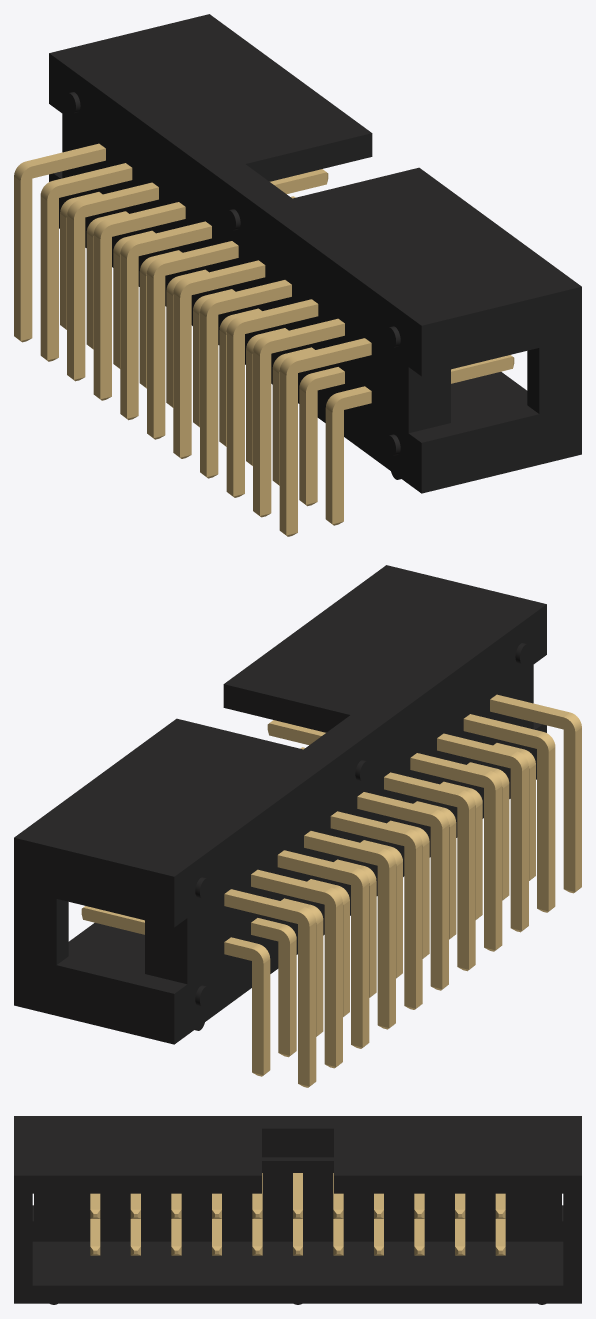
The model's file is kc-idc-header_2x11_p2.54mm_horizontal.glb.
3 views of the same model, one above another, from view 1: azimuth 30°, elevation 25°; view 2: azimuth 150°, elevation 25°; view 3: azimuth 270°, elevation 25° (orthographic). The views are drawn at different scales.
Visible parts, largest first — view 1: 0_0_0_0, 0.75_0.5_0.25_0.9; view 2: 0_0_0_0, 0.75_0.5_0.25_0.9; view 3: 0_0_0_0, 0.75_0.5_0.25_0.9.
Part boxes in pixels (x1,y1,x2,y2): 0_0_0_0: [49, 14, 581, 493]; 0.75_0.5_0.25_0.9: [14, 143, 514, 536]; 0_0_0_0: [14, 565, 546, 1044]; 0.75_0.5_0.25_0.9: [81, 694, 581, 1087]; 0_0_0_0: [14, 1116, 581, 1304]; 0.75_0.5_0.25_0.9: [90, 1173, 505, 1255].
Size of the model in its own units: 1.36 by 1.21 by 3.56.
